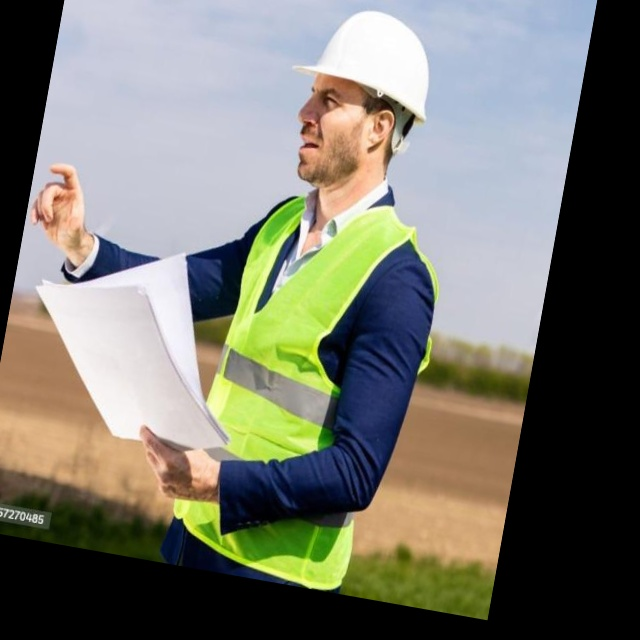Con_Casco: (273, 0, 445, 204)
Con_Chaleco: (179, 178, 423, 590)
